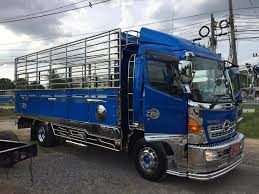truck: (39, 27, 246, 182)
